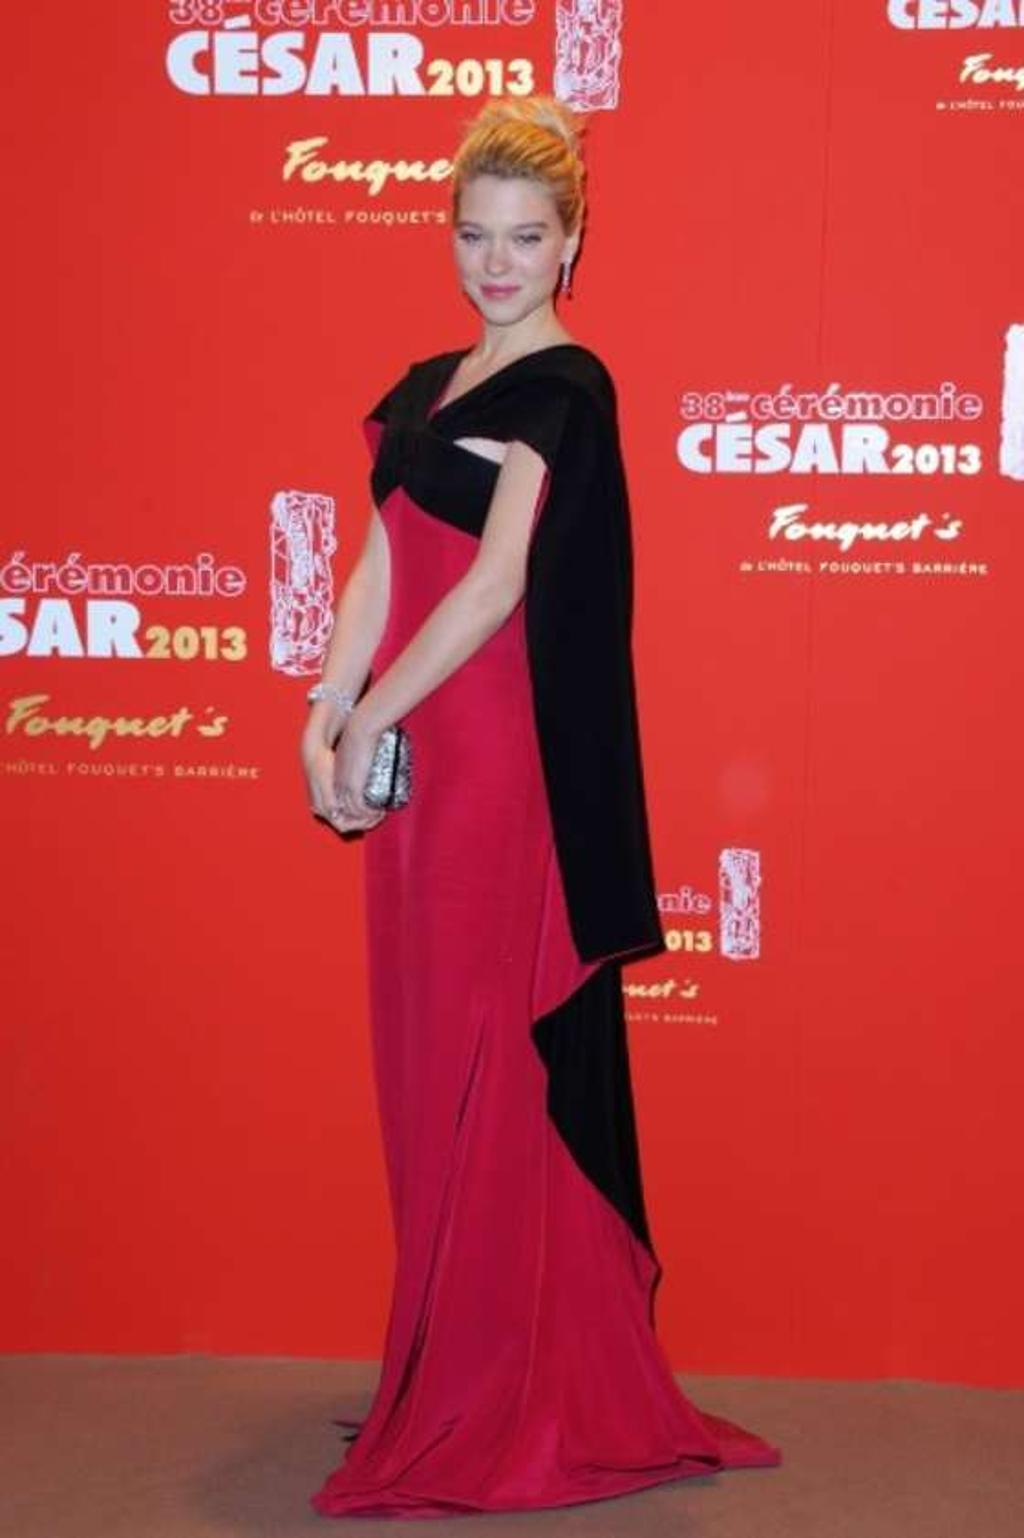face: (453, 153, 564, 324)
